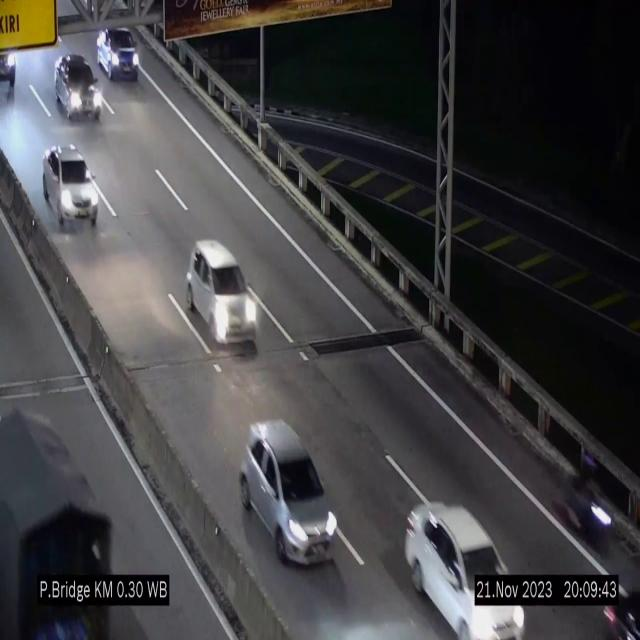Car: (405, 503, 524, 639), (239, 421, 339, 562), (186, 241, 258, 347), (43, 144, 98, 229), (52, 55, 102, 130), (93, 28, 143, 94), (0, 38, 22, 99)
Motorcycle: (560, 449, 612, 559)
Truck: (0, 383, 117, 640)
